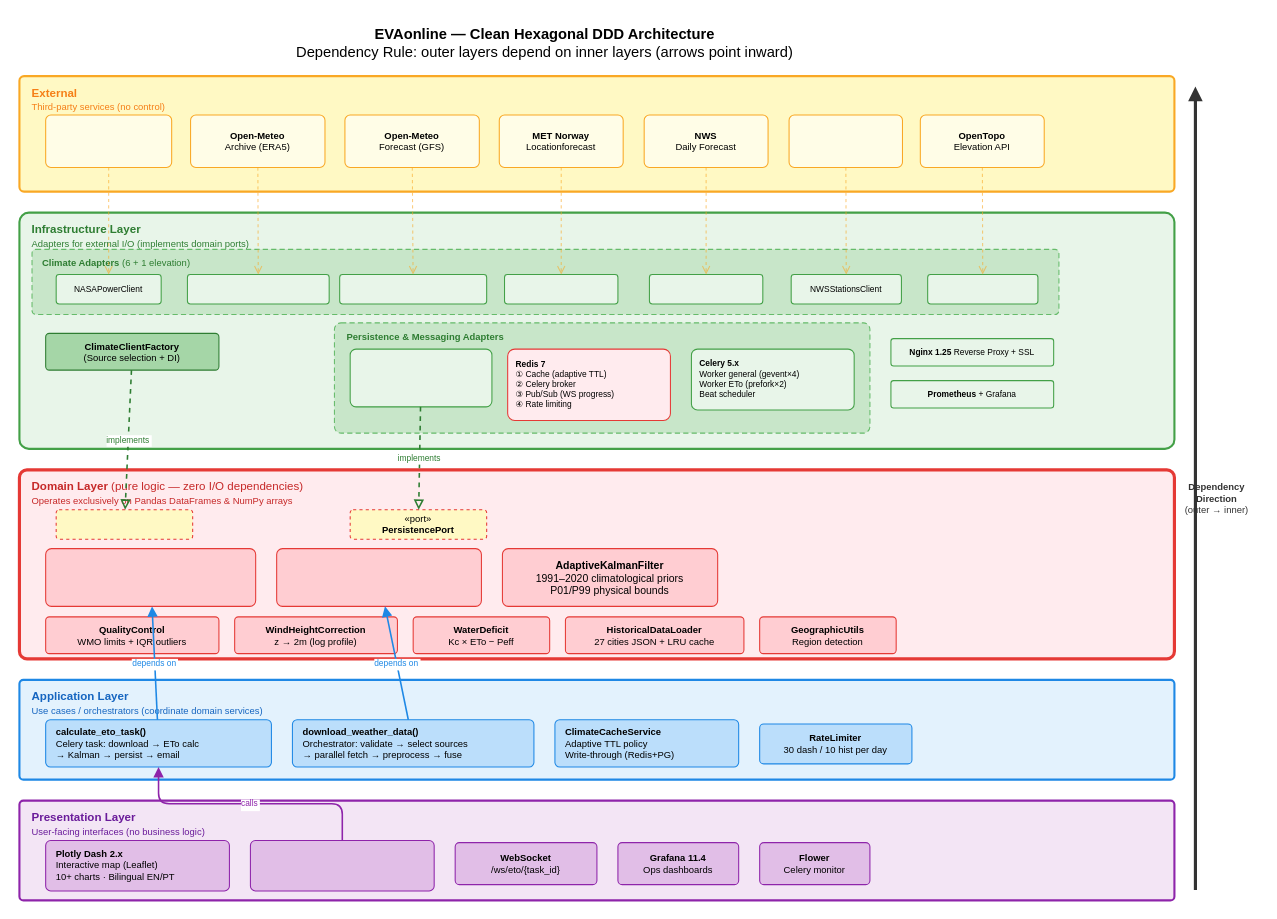
This 1277x919 diagram has some shape labels left out. Each missing label, with the centre of its shape:
"ClimateFusion Region-adaptive weighted avg (dynamic source weights)" goes at pixel 378 577.
"EToCalculationService FAO-56 Penman-Monteith (7 meteorological variables)" goes at pixel 150 577.
"FastAPI 0.115 REST API (OpenAPI 3.0) WebSocket real-time progress" goes at pixel 341 865.
"METNorwayClient" goes at pixel 560 289.
"NASA POWER v2.0 (reanalysis)" goes at pixel 108 140.
"NWS Stations" goes at pixel 845 140.
"NWSForecastClient" goes at pixel 705 289.
"OpenMeteoArchiveClient" goes at pixel 257 289.
"OpenMeteoForecastClient" goes at pixel 413 289.
"OpenTopoClient" goes at pixel 982 289.
"PostgreSQL 16 + PostGIS 3.4 SQLAlchemy 2.0" goes at pixel 420 377.
"«port» ClimateDataPort" goes at pixel 124 524.
